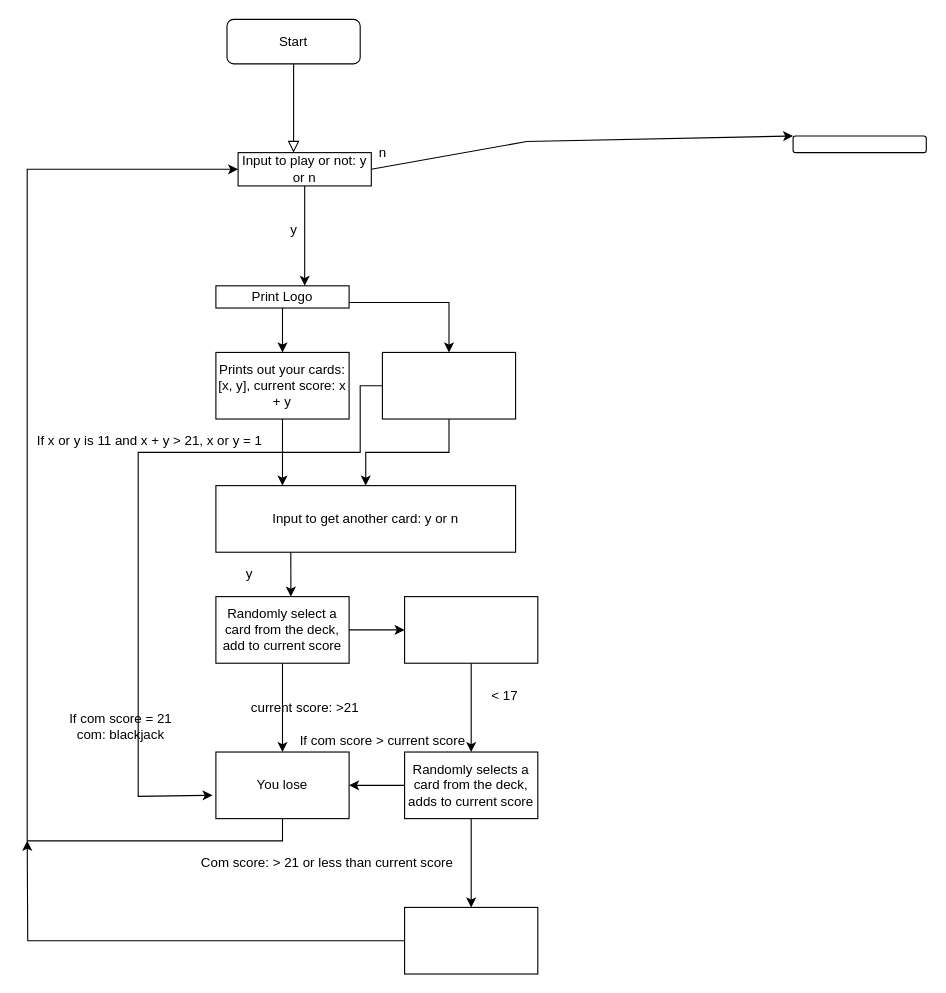
This 946x993 diagram has some shape labels left out. The box of each missing label's shape, as (x1, y1, x2, y2) in pixels:
Computer reveals 2nd card: (403, 596, 538, 663)
Prints out computer's first card, second card not printed: (381, 351, 516, 419)
Program exits: (792, 135, 926, 153)
You win: (403, 906, 538, 974)
